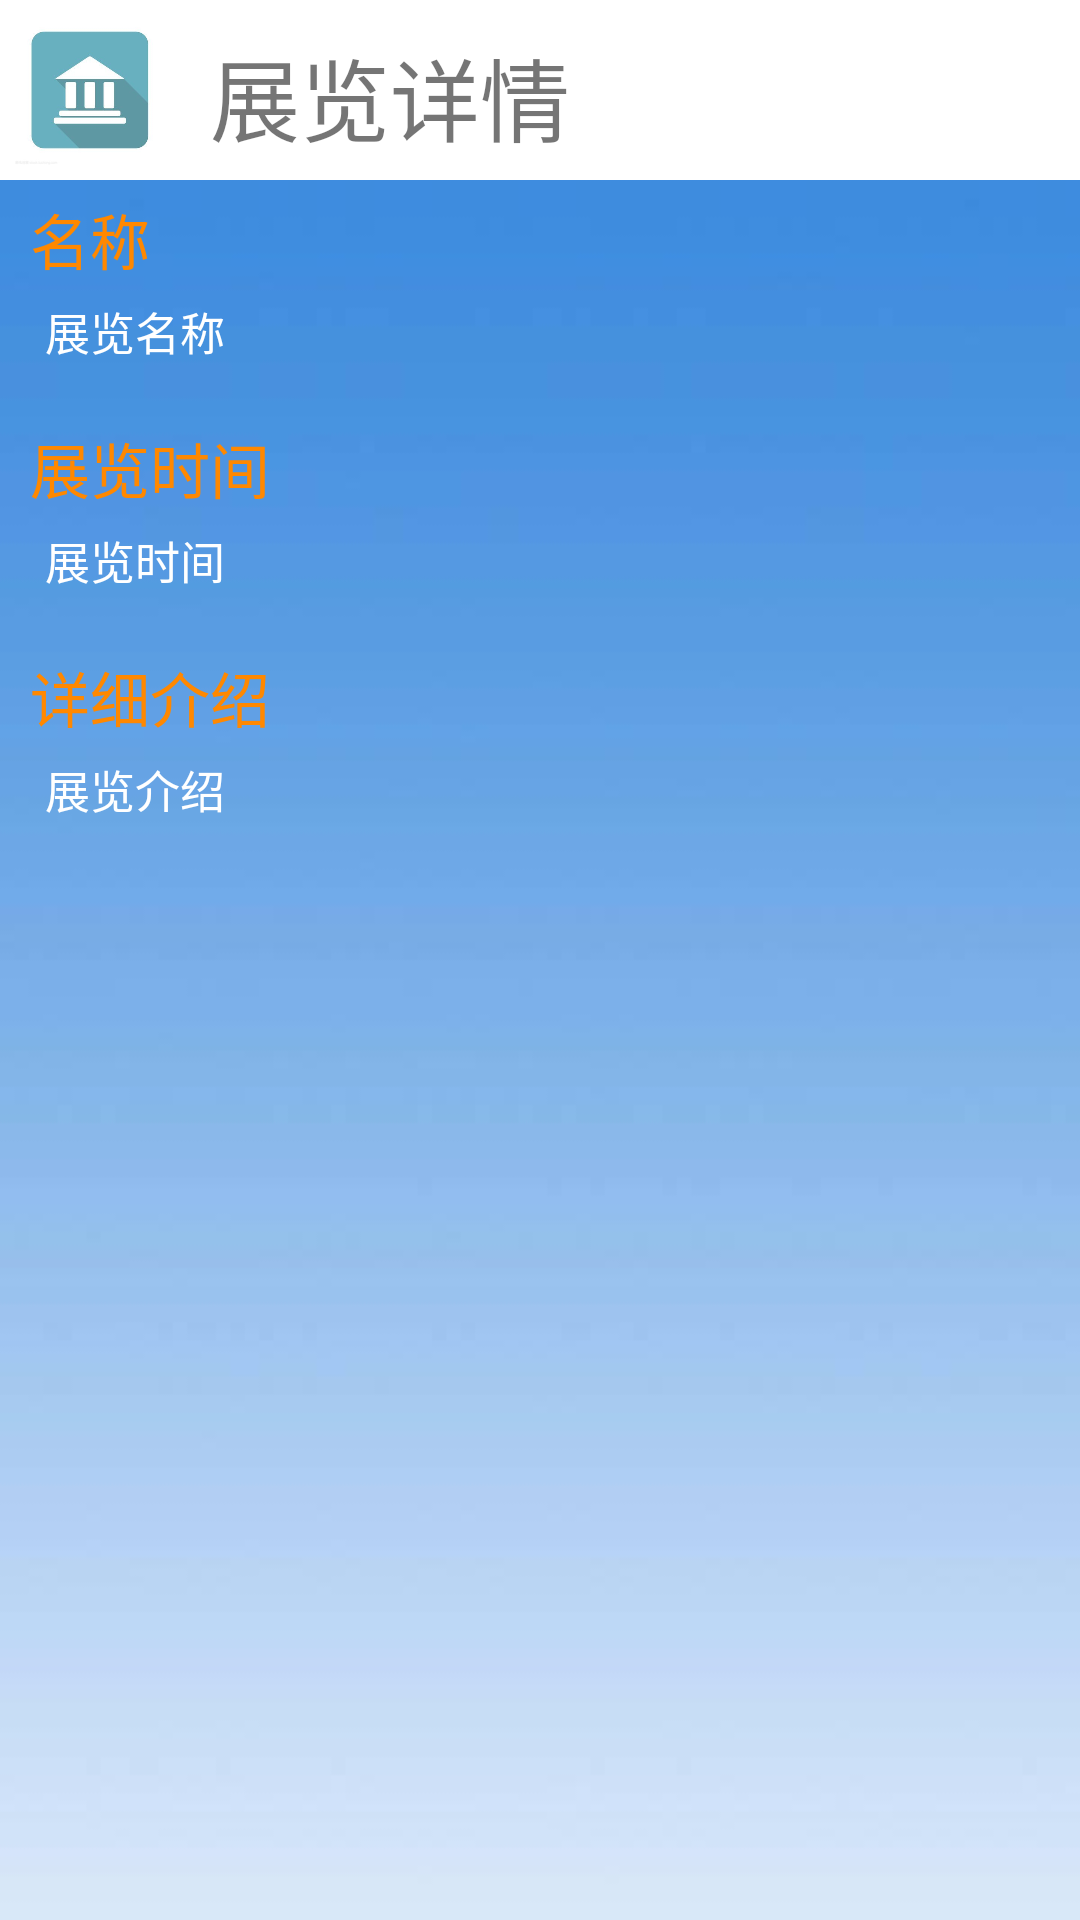

Named icons in this screenshot (1080w x 1920h) and their bounding boxes, (x1, y1, x2, y2):
museumdet: (31, 31, 149, 149)
